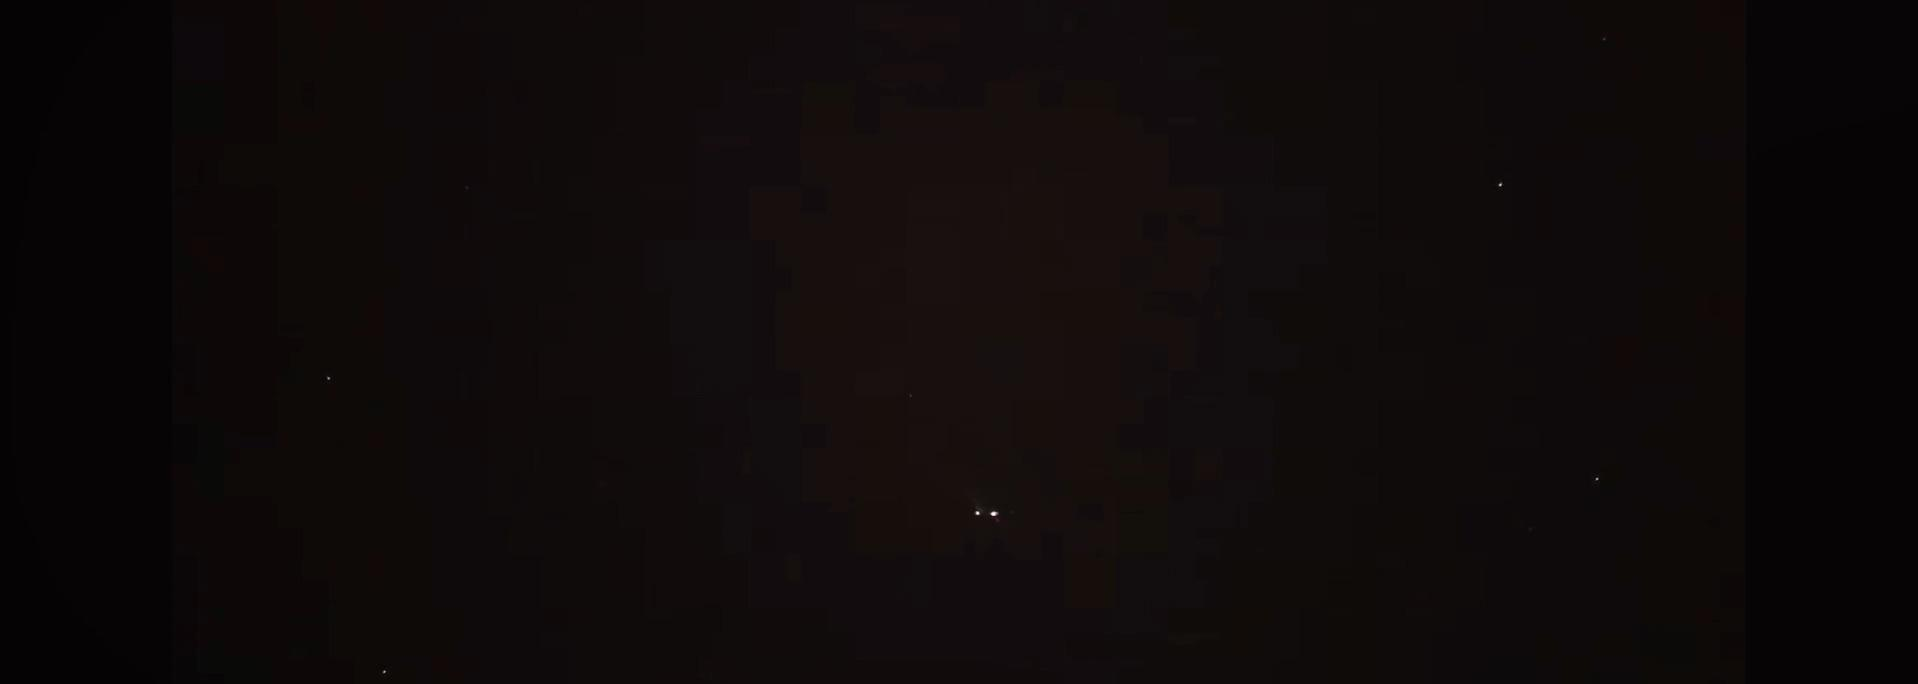Plane: (971, 500, 1010, 527)
